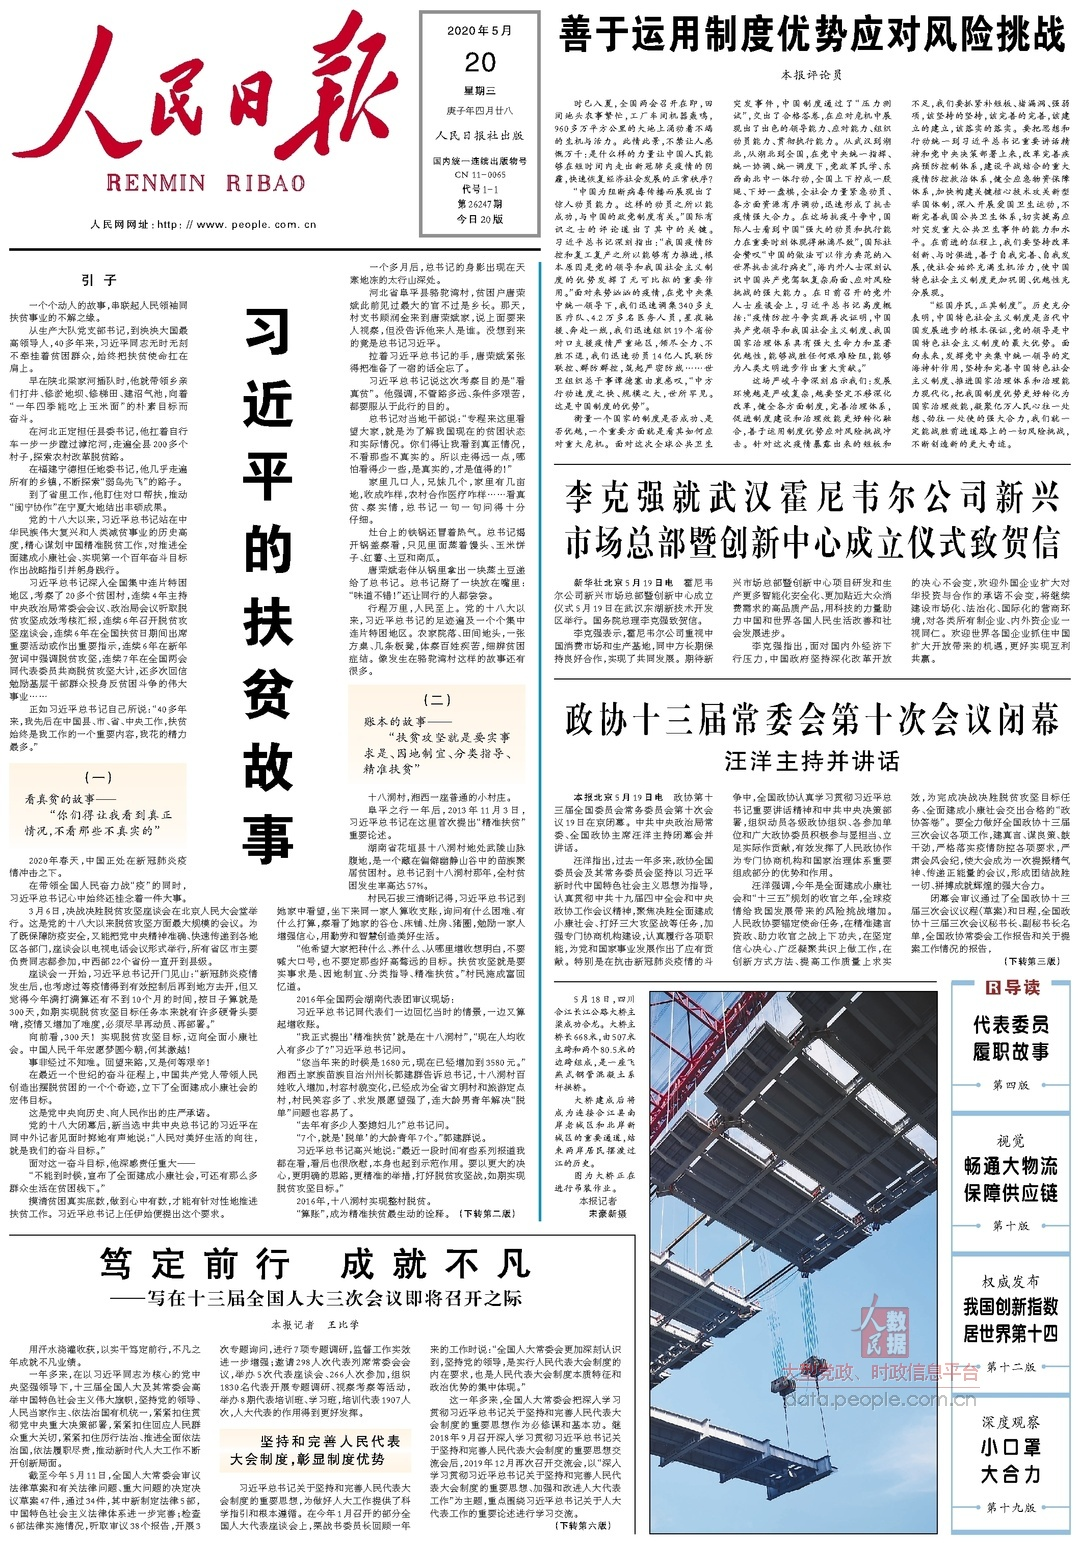pic: (645, 986, 942, 1538)
